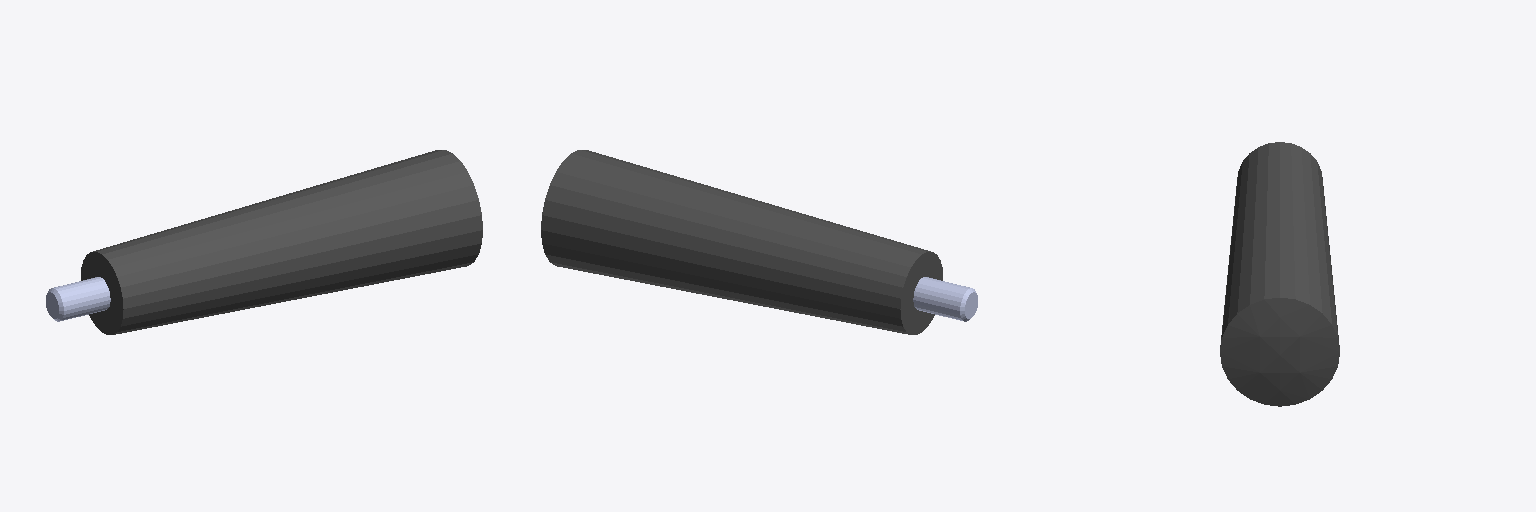
The model's file is ganter_gn_203-21-m6.obj.
3 views of the same model, side by side, from view 1: azimuth 30°, elevation 25°; view 2: azimuth 150°, elevation 25°; view 3: azimuth 270°, elevation 25° (orthographic).
Parts seen in each view (by area): view 1: ganter_gn_203-21-m6_1; view 2: ganter_gn_203-21-m6_1; view 3: ganter_gn_203-21-m6_1.
Boxes of the visible parts, box(x1,y1,x2,y2) form: ganter_gn_203-21-m6_1: box(46, 150, 482, 334); ganter_gn_203-21-m6_1: box(541, 150, 977, 334); ganter_gn_203-21-m6_1: box(1220, 142, 1339, 406).
Size of the model in its own units: 82 by 21 by 21.